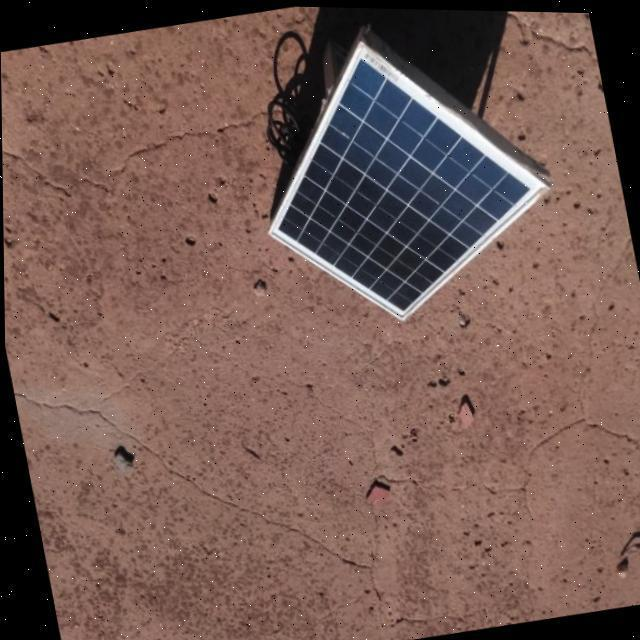Normal Solar Panel: (236, 7, 570, 339)
